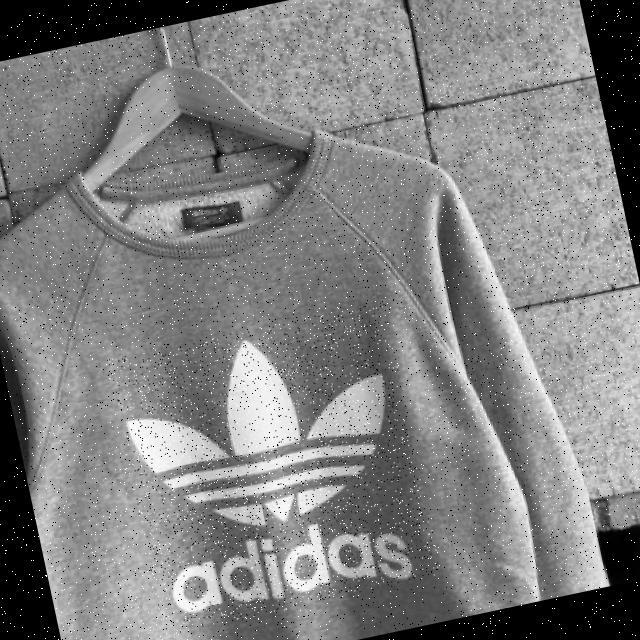Adidas: (106, 301, 442, 636)
